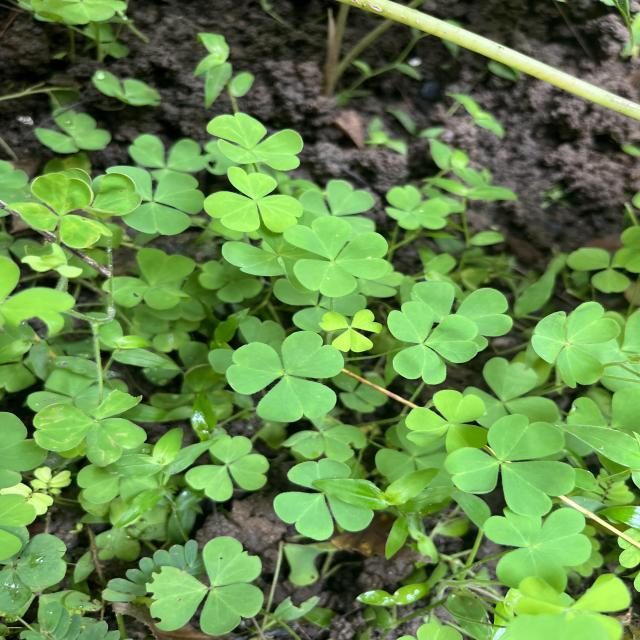Oxalis corniculata: (444, 412, 578, 518), (144, 534, 268, 637), (226, 328, 346, 423), (482, 505, 593, 598), (32, 387, 150, 469), (284, 215, 392, 299), (4, 170, 115, 250), (272, 456, 376, 541), (530, 300, 622, 390), (386, 300, 480, 386), (202, 166, 304, 234), (204, 110, 304, 172), (185, 433, 272, 503), (405, 389, 488, 455), (318, 308, 384, 352)
